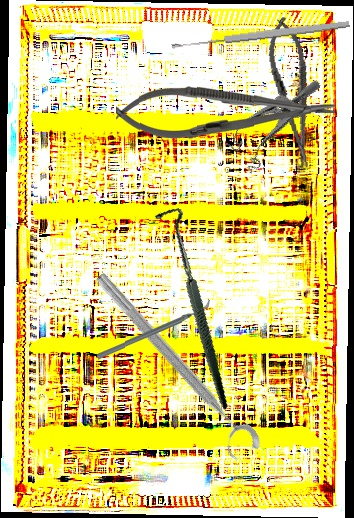Chopper: (96, 298, 211, 360)
Fixation Ring: (80, 268, 266, 467)
Hook Surgical: (115, 203, 269, 411)
Needle Holder: (115, 83, 336, 141), (261, 13, 323, 172)
Speculum: (219, 57, 322, 181)
Surgical Spoon: (171, 19, 350, 51)
